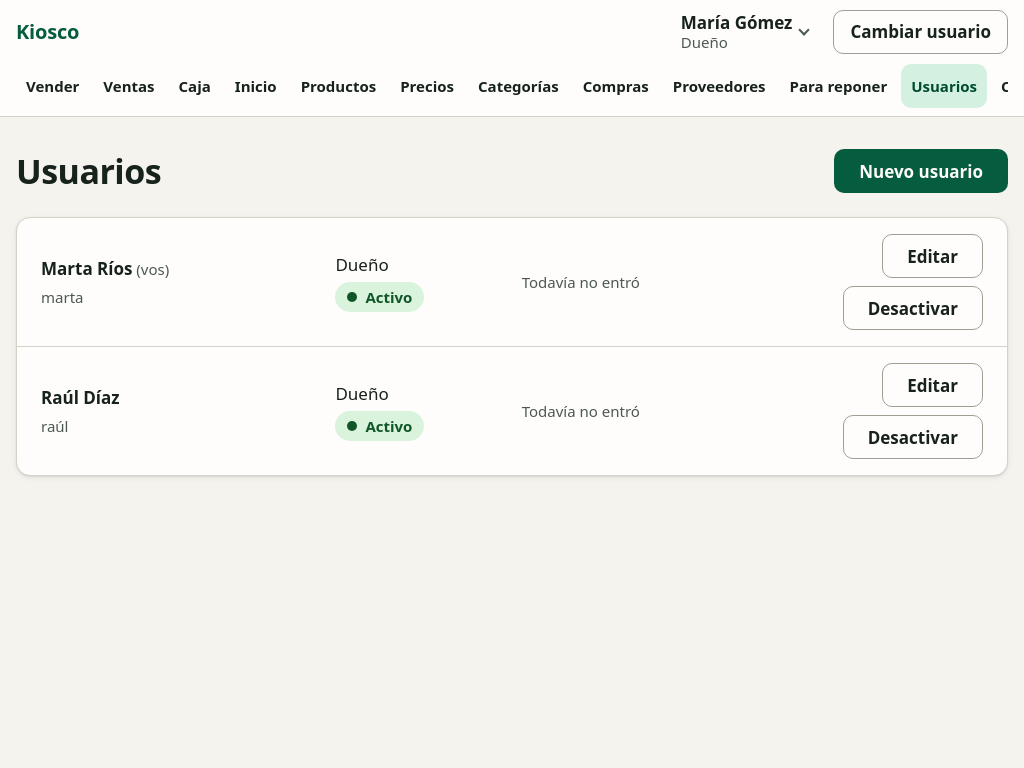
UsersPage: último dueño (H-19) › si el servidor responde LAST_ACTIVE_OWNER al desactivar, muestra el mensaje claro
Click the button with aria-label "Desactivar a Raúl Díaz". click: (913, 437)
box: [843, 415, 983, 459]
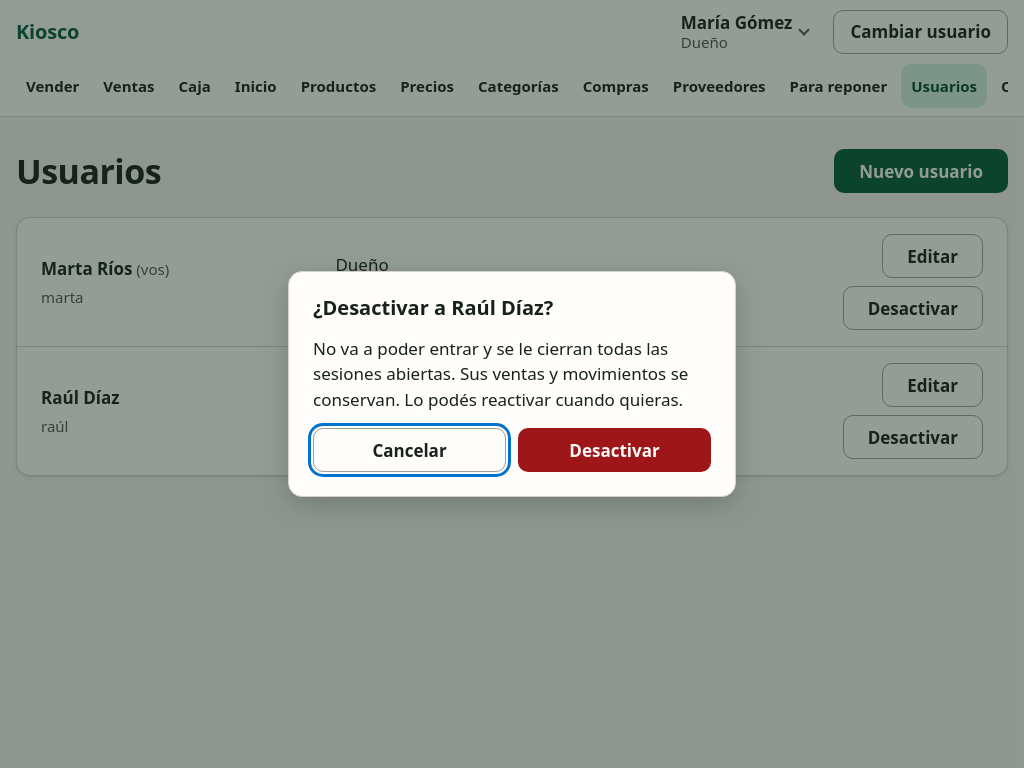
Click the button "Desactivar". click: (614, 450)
box: [518, 428, 711, 472]
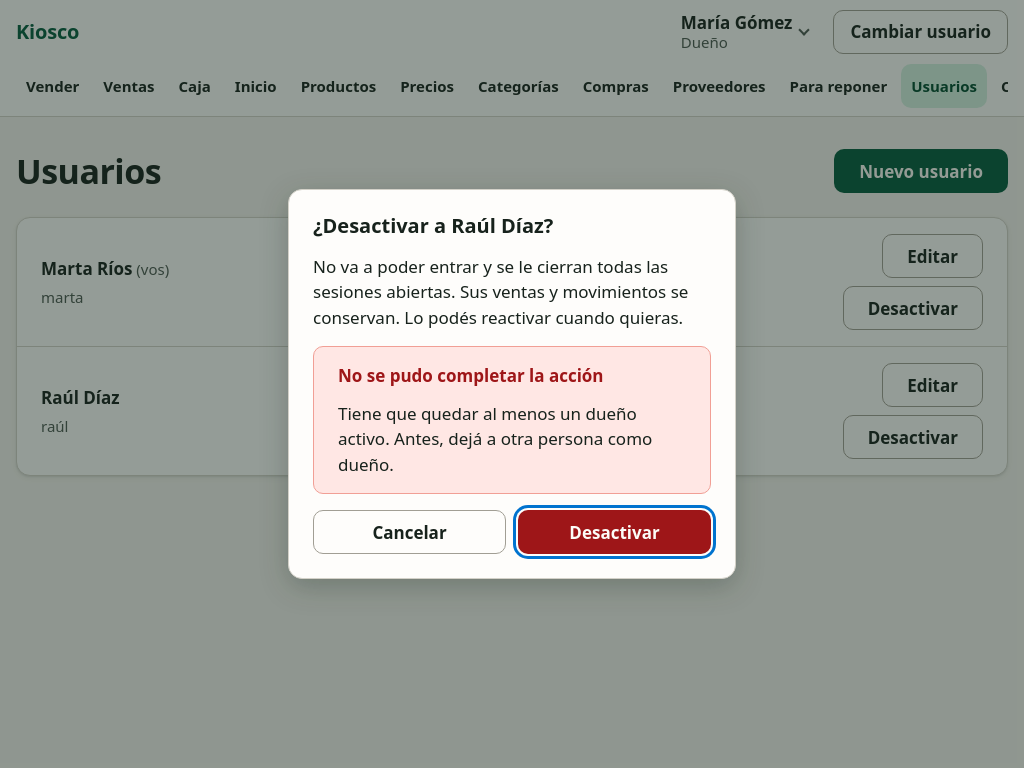
Expected: the message shows "Tiene que quedar al menos un dueño activo", [338, 402, 652, 476]
